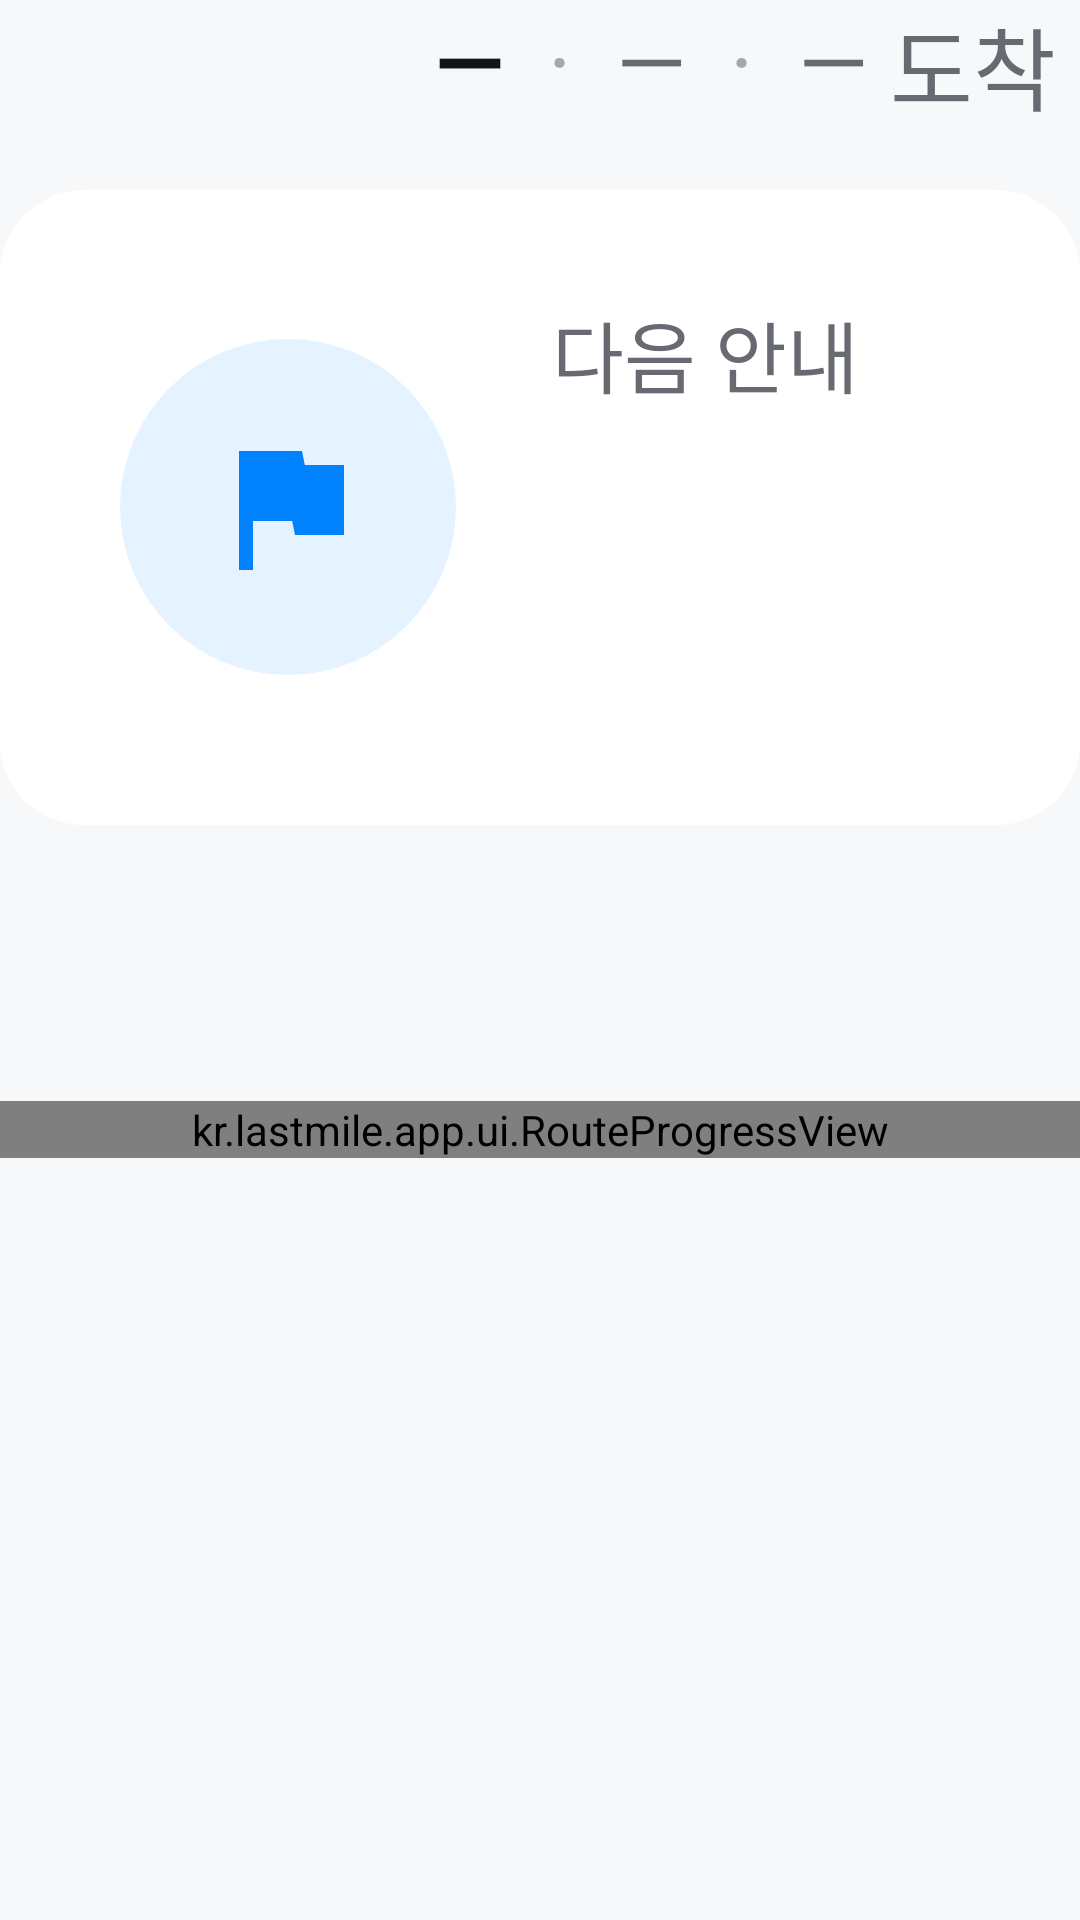

Point at icon controls on the screen. Image size 1080x1920, points as (x,y).
flag: (291,510)
